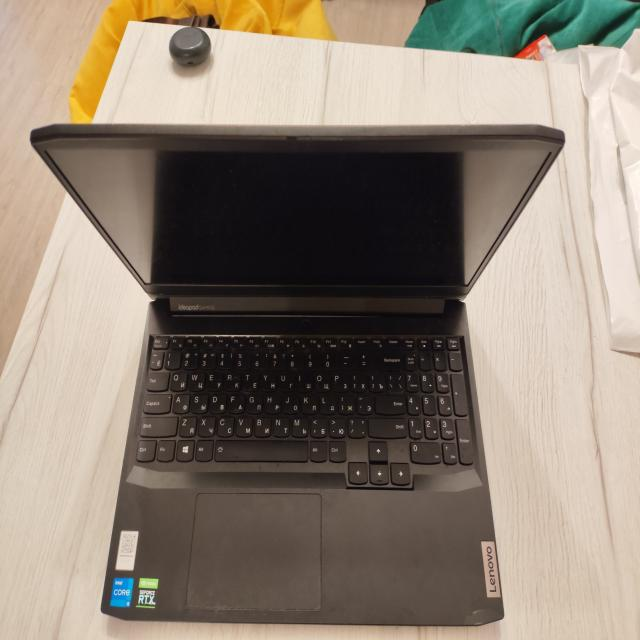other: (172, 595, 324, 616)
scratch: (459, 600, 506, 632)
